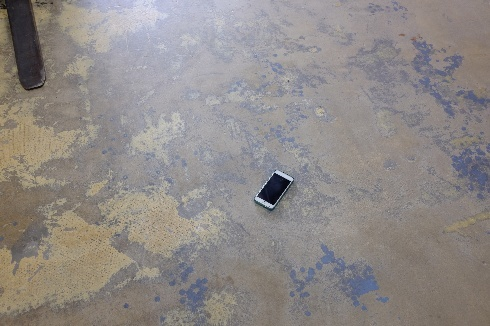phone: (250, 172, 299, 204)
